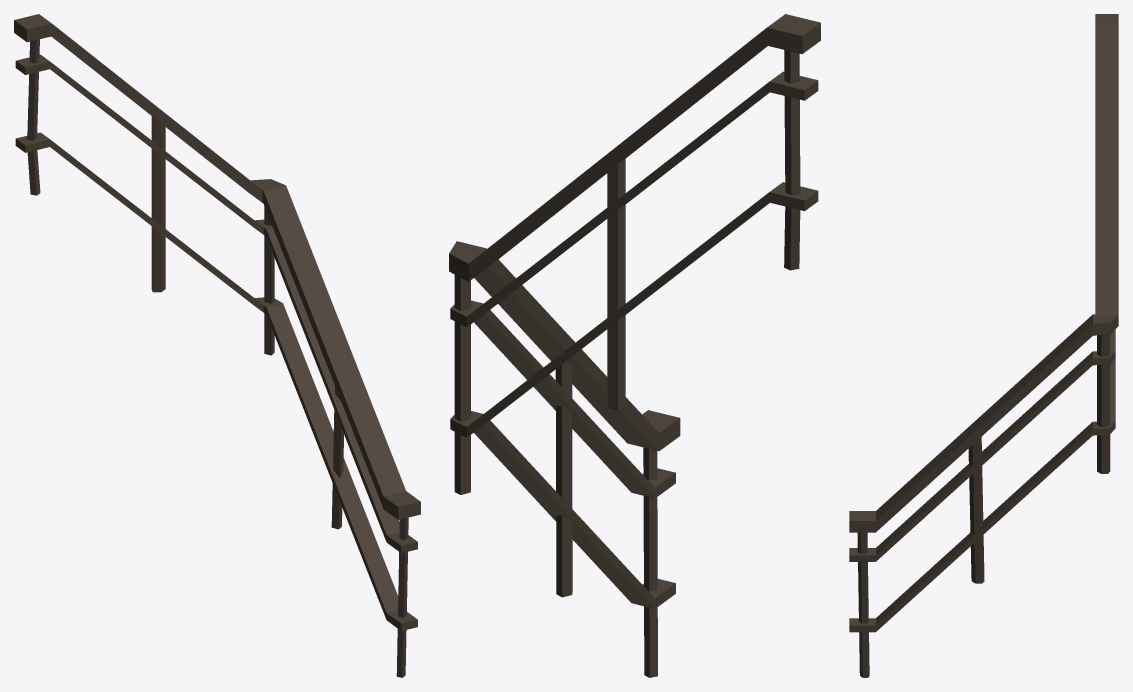
The model's file is SM_Bld_House_Stairs_02_Railing_01.fbx.
3 views of the same model, side by side, from view 1: azimuth 30°, elevation 25°; view 2: azimuth 150°, elevation 25°; view 3: azimuth 270°, elevation 25° (orthographic). The views are drawn at different scales.
Visible parts, largest first — view 1: SM_Bld_House_Stairs_02_Railing_01; view 2: SM_Bld_House_Stairs_02_Railing_01; view 3: SM_Bld_House_Stairs_02_Railing_01.
Boxes of the visible parts, x1,y1,x2,y2 form: SM_Bld_House_Stairs_02_Railing_01: (14, 14, 420, 677); SM_Bld_House_Stairs_02_Railing_01: (449, 14, 820, 677); SM_Bld_House_Stairs_02_Railing_01: (849, 14, 1118, 677).
Size of the model in its own units: 155 by 352 by 155.
